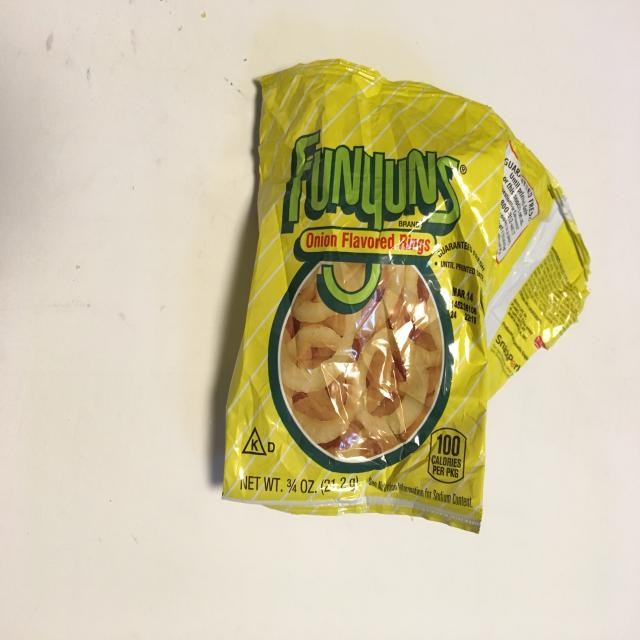trash: (220, 58, 591, 533)
